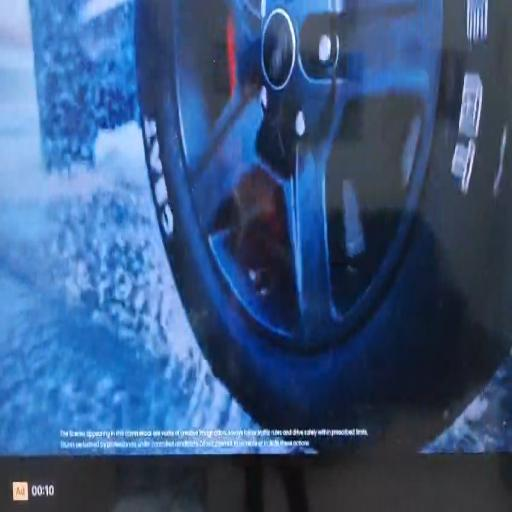ad label: (10, 479, 30, 508)
